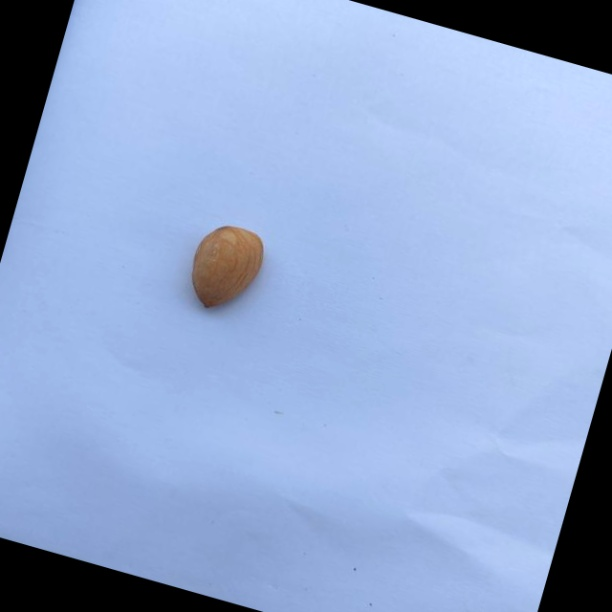grade2: (178, 214, 277, 323)
